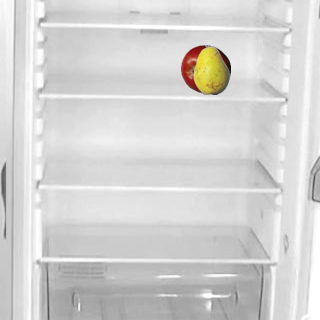Apple Braeburn: (180, 44, 230, 94)
Pear Monster: (186, 44, 236, 94)
